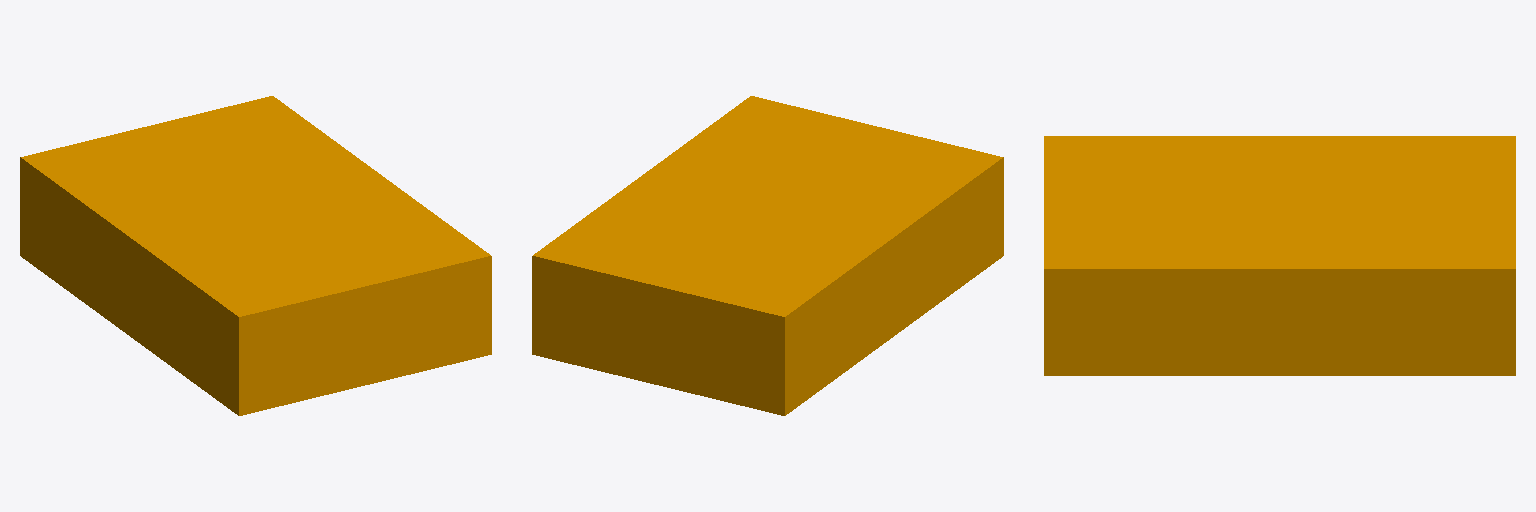
URDF robot description (box):
<?xml version="1.0"?>
<robot name="box">
  <link name="box">
    <visual>
      <origin xyz="0.5 0.0 0.075"/>
      <geometry>
        <box size="0.4 0.6 0.15"/>
      </geometry>
    </visual>
    <collision>
      <origin xyz="0.5 0.0 0.075"/>
      <geometry>
        <box size="0.4 0.6 0.15"/>
      </geometry>      
    </collision>
    <inertial>
      <mass value="500"/>
      <friction value="1.0"/>
      <inertia ixx="1000.0" ixy="0.0" ixz="0.0" iyy="1000.0" iyz="0.0" izz="1000.0"/>
    </inertial>
  </link>
</robot>

--- What the picture shows (computed from the rendered views, not written in the file) ---
The picture shows the robot from 3 angles, left to right: view 1: azimuth 30°, elevation 25°; view 2: azimuth 150°, elevation 25°; view 3: azimuth 270°, elevation 25°; orthographic projection.
Robot: box — 1 links, 0 joints (none); root link box; default pose: every joint at zero.
Links seen in each view (by area): view 1: box; view 2: box; view 3: box.
Link boxes in pixels (bbox=[...]): box: bbox=[20, 96, 491, 415]; box: bbox=[532, 96, 1003, 415]; box: bbox=[1044, 136, 1515, 375].
Size in the robot's own frame: 0.4 by 0.6 by 0.15 metres.
Geometry: primitives only (box / cylinder / sphere), no mesh files.